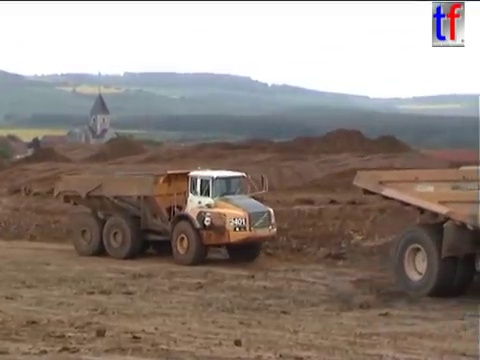truck: (50, 166, 280, 267), (350, 165, 480, 299)
